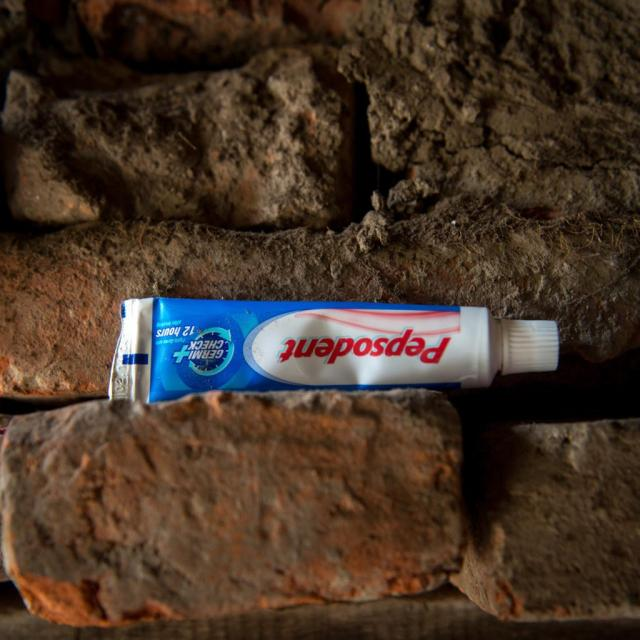Toothpaste: (97, 284, 575, 402)
